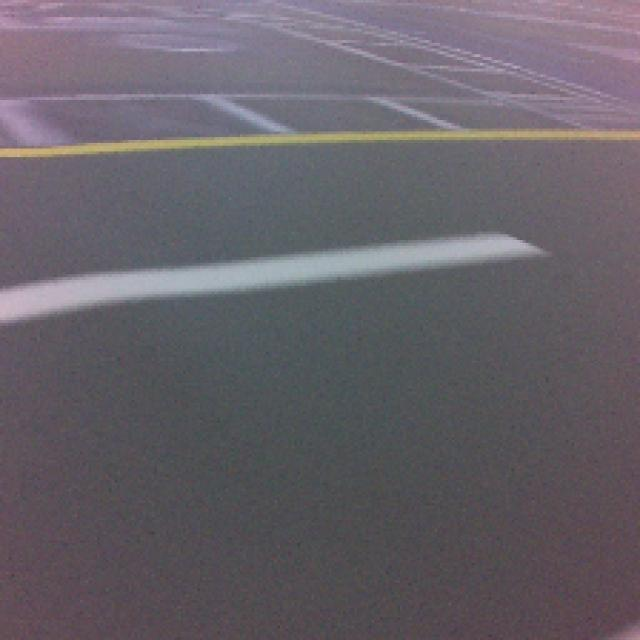Road: (0, 421, 640, 640)
